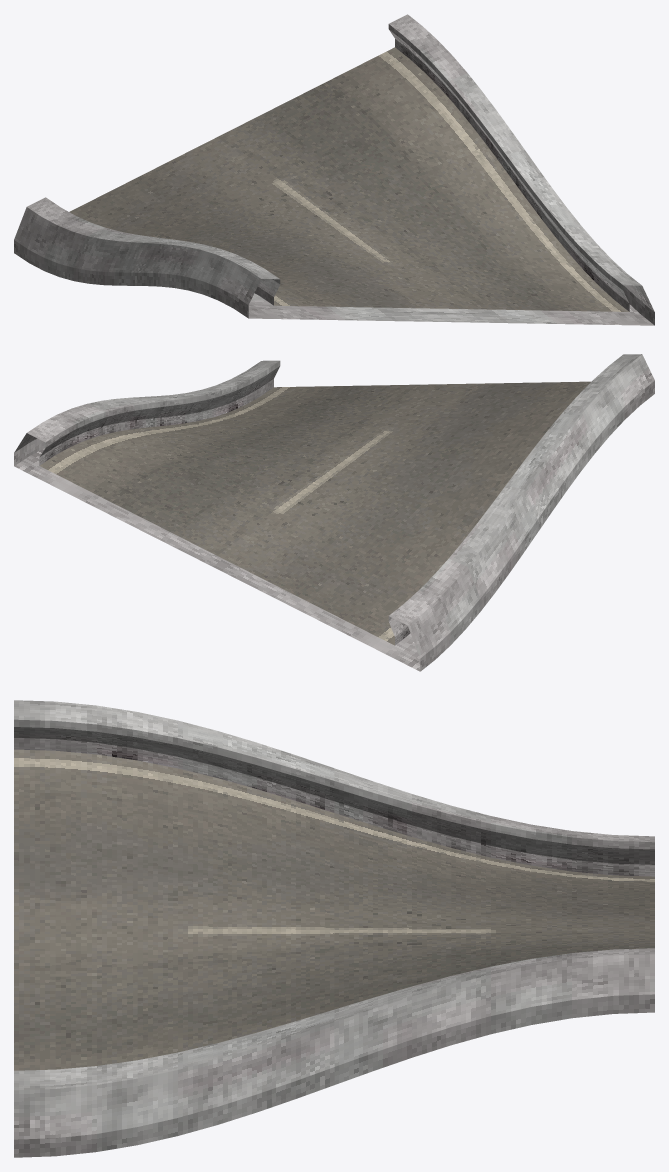
Rendered from road-Straight-HalfBankedRight-HalfBankedLeft-Even-Center-Size1.glb.
3 renders of one model, top to bottom at view 1: azimuth 30°, elevation 25°; view 2: azimuth 150°, elevation 25°; view 3: azimuth 270°, elevation 25°, orthographic. The views are drawn at different scales.
Parts seen in each view (by area): view 1: road-Straight-HalfBankedRight-HalfBankedLeft-Even-Center-Siz; view 2: road-Straight-HalfBankedRight-HalfBankedLeft-Even-Center-Siz; view 3: road-Straight-HalfBankedRight-HalfBankedLeft-Even-Center-Siz.
Boxes of the visible parts, x1,y1,x2,y2 form: road-Straight-HalfBankedRight-HalfBankedLeft-Even-Center-Siz: (14, 14, 654, 325); road-Straight-HalfBankedRight-HalfBankedLeft-Even-Center-Siz: (14, 354, 654, 671); road-Straight-HalfBankedRight-HalfBankedLeft-Even-Center-Siz: (14, 700, 654, 1157).
Size of the model in its own units: 1 by 0.3359 by 1.
2 materials, 2 textured.
